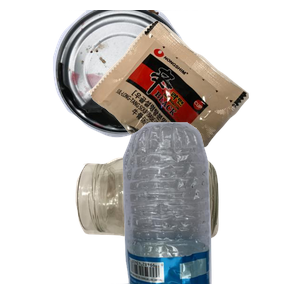glass: (73, 153, 284, 300)
metal: (50, 10, 262, 140)
plastic: (111, 120, 300, 300)
trash: (86, 18, 300, 194)
